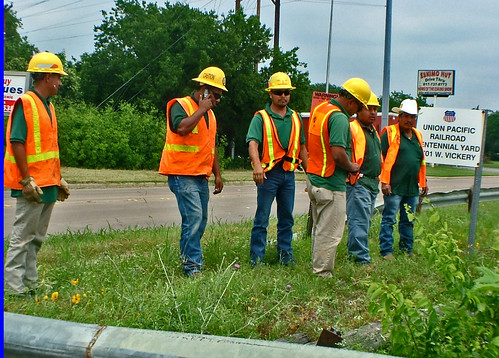person hardhat: (5, 50, 65, 306), (302, 78, 370, 285), (164, 63, 226, 282), (253, 72, 298, 266), (350, 87, 381, 272)
